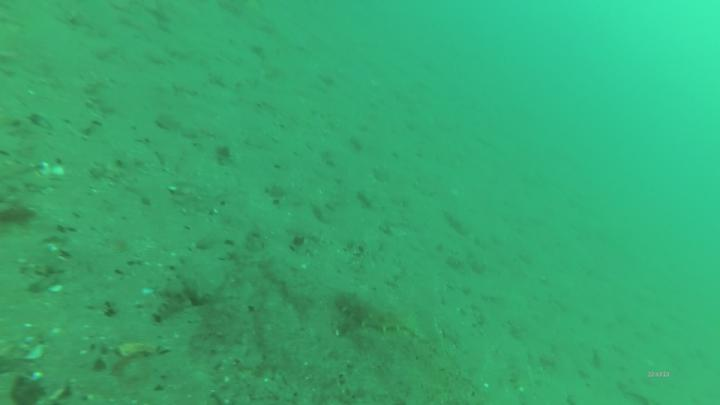holothurian: (336, 288, 411, 336)
